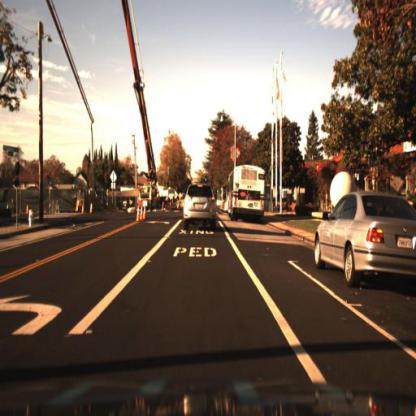car: (309, 181, 416, 301), (178, 181, 221, 236)
pedestrian: (144, 187, 155, 214)
truck: (46, 1, 161, 212), (227, 161, 267, 222)
